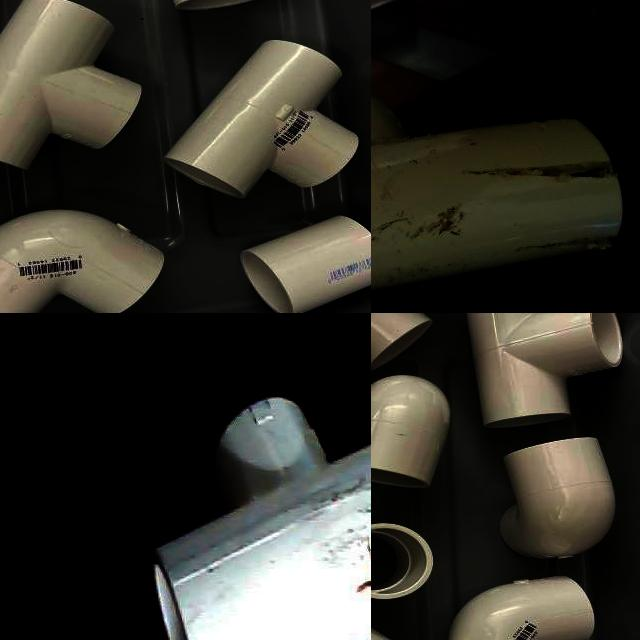Defective: (458, 161, 622, 212), (326, 447, 371, 603), (378, 170, 495, 221), (515, 225, 619, 262), (374, 144, 403, 148)
L Joint: (0, 209, 163, 313), (499, 438, 617, 562), (454, 576, 595, 640)
T Joint: (150, 399, 371, 640), (371, 99, 624, 295), (164, 40, 358, 202), (0, 0, 144, 175), (467, 313, 624, 429)
